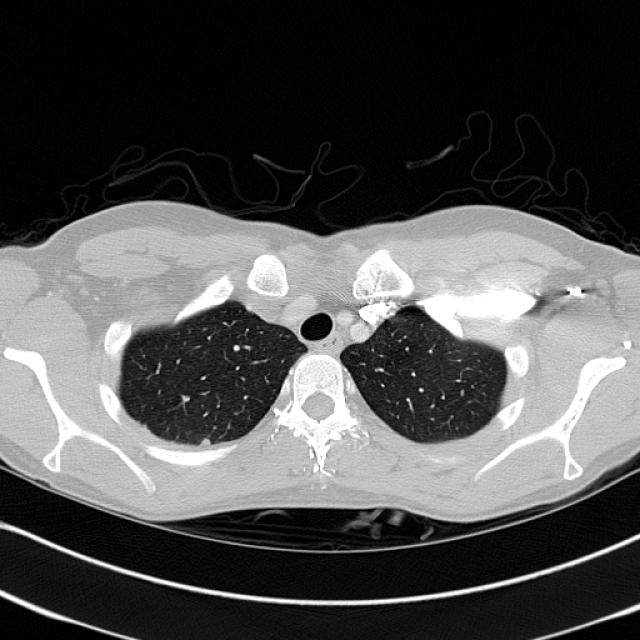nodule: (194, 430, 216, 452)
